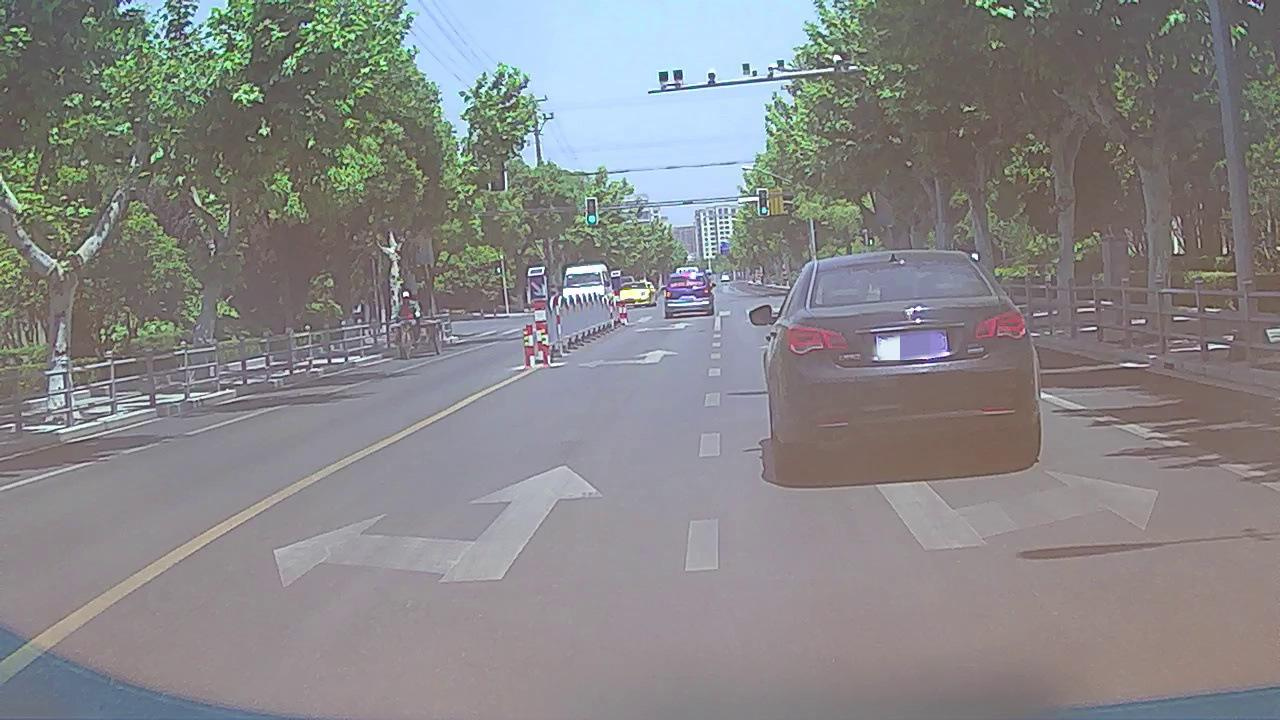traffic_light: (586, 199, 597, 224), (759, 189, 768, 215)
